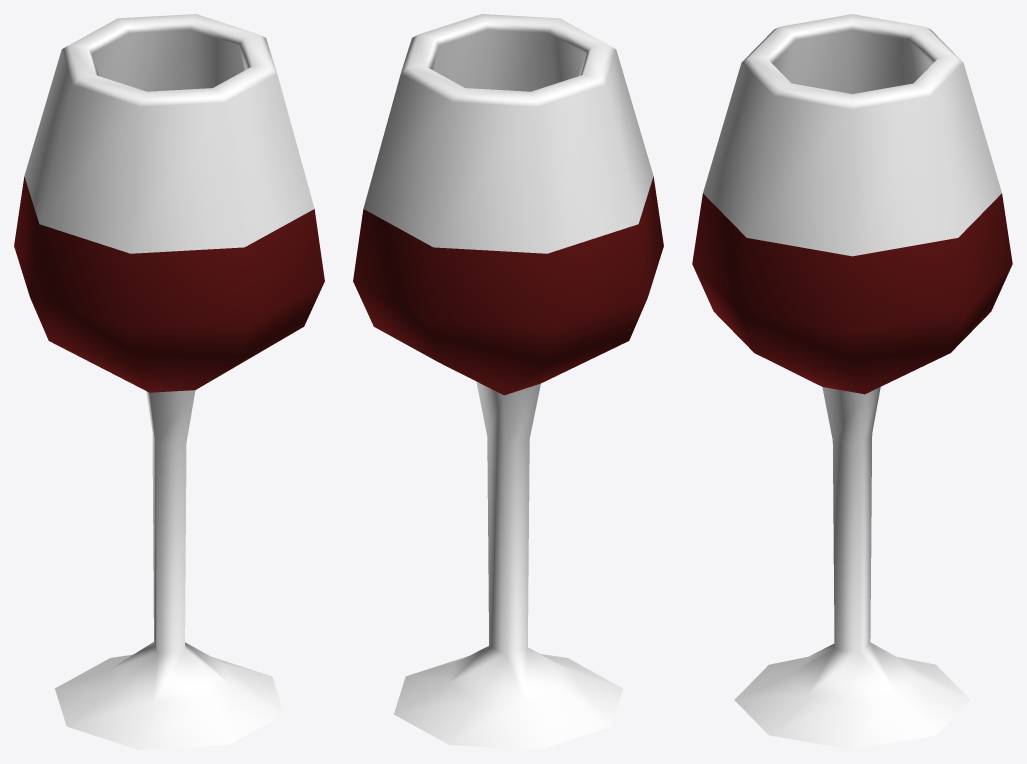
Rendered from prop_069.fbx.
3 renders of one model, left to right at view 1: azimuth 30°, elevation 25°; view 2: azimuth 150°, elevation 25°; view 3: azimuth 270°, elevation 25°, orthographic.
Visible parts, largest first — view 1: prop_069; view 2: prop_069; view 3: prop_069.
Boxes of the visible parts, bbox=[...] form: prop_069: bbox=[14, 14, 324, 749]; prop_069: bbox=[353, 14, 663, 749]; prop_069: bbox=[692, 14, 1012, 749].
Size of the model in its own units: 15.96 by 15.96 by 35.29.
